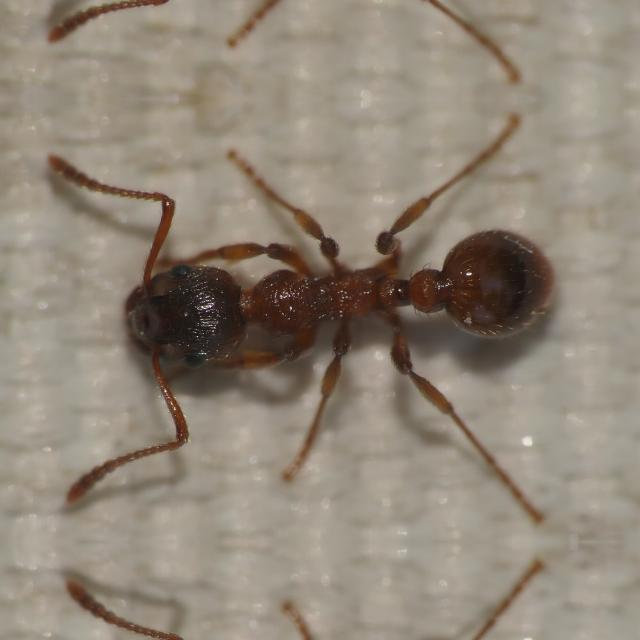Myrmica: (73, 176, 579, 408)
